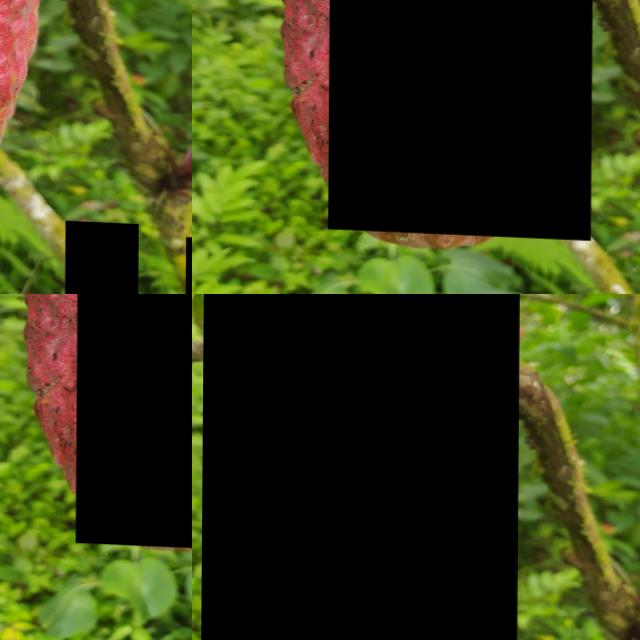Monilia: (76, 294, 192, 547)
Sana: (202, 294, 520, 640), (328, 0, 593, 236), (66, 216, 139, 294)
